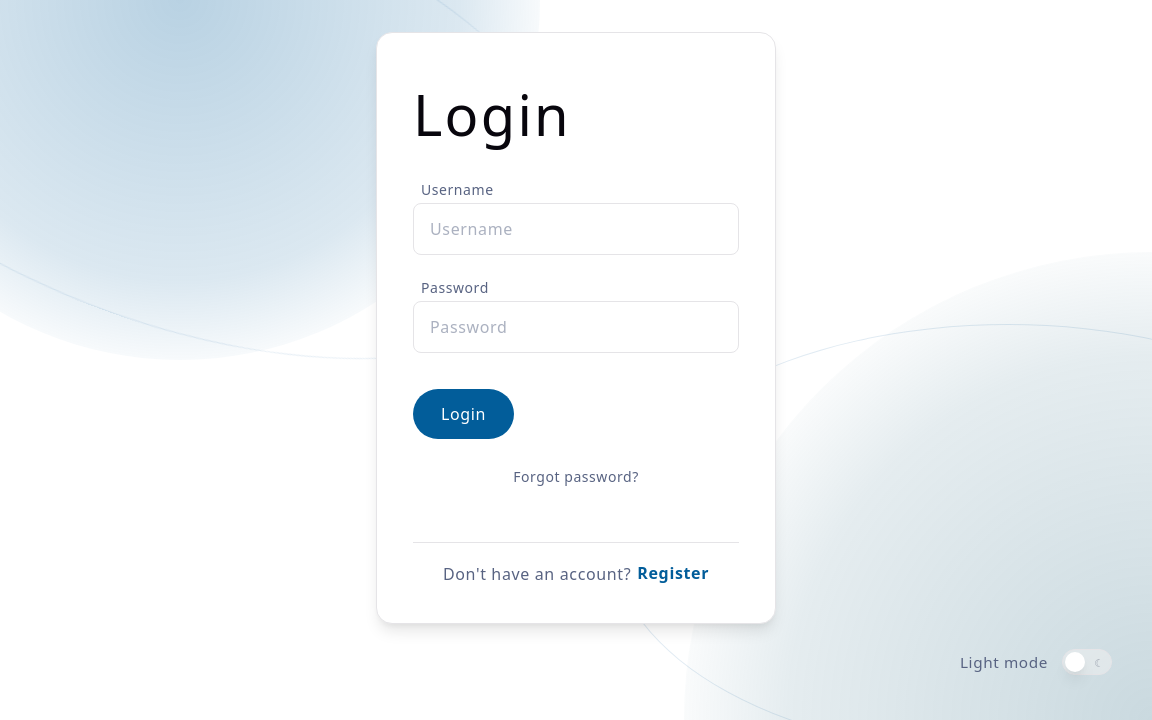
Scenario: Login › shows the API error when login fails
This screenshot has width=1152, height=720.
Step 1. Type "wronguser" into the field with placeholder "Username" → point(576, 229), box x1=413 y1=203 x2=739 y2=255
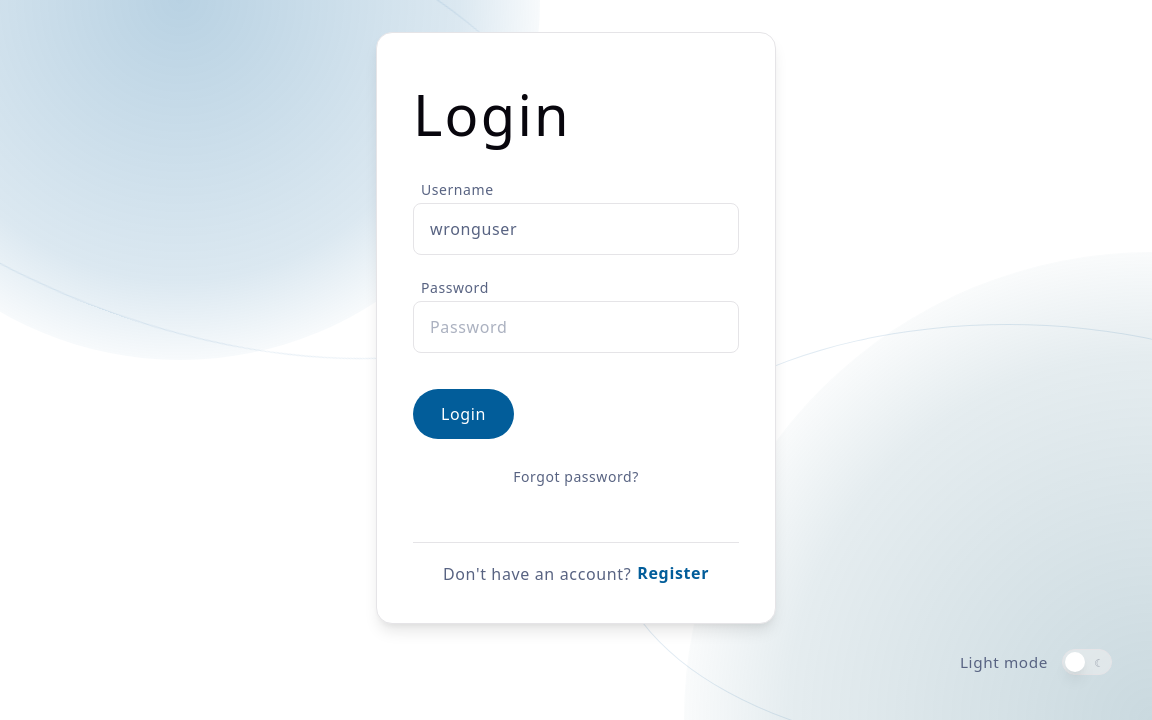
Step 2. Type "wrongpassword" into the password field with placeholder "Password" → point(576, 327), box x1=413 y1=301 x2=739 y2=353
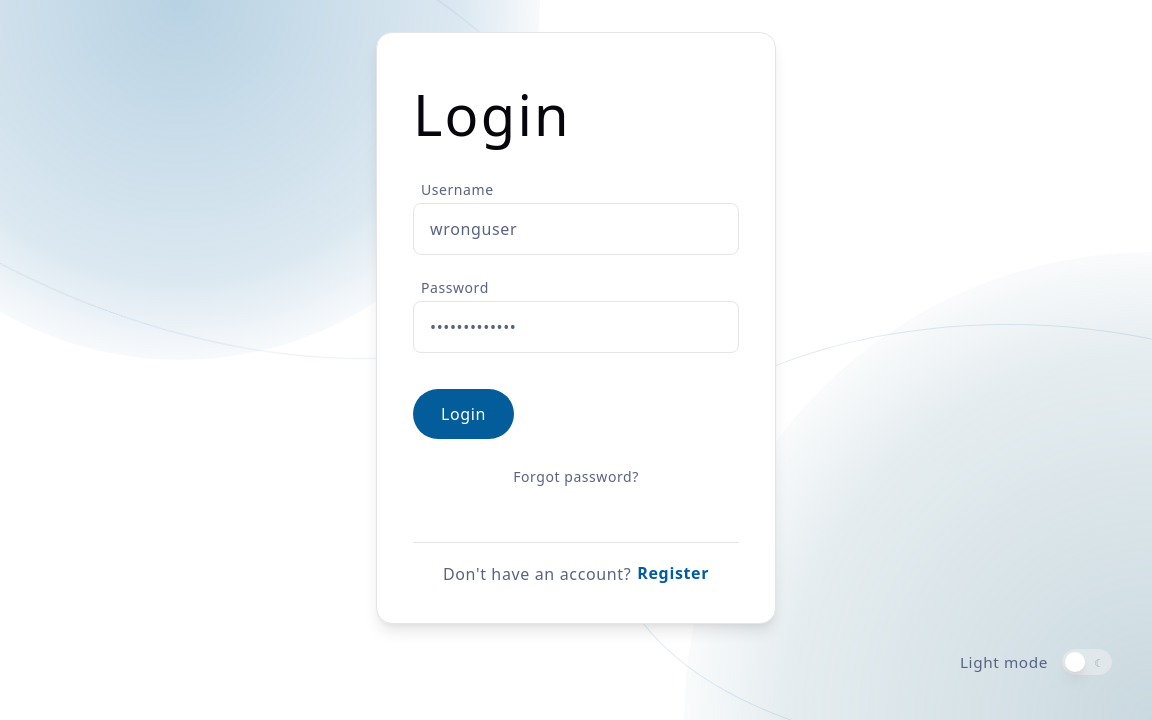
Step 3. Click the button "Login" → point(464, 414), box x1=413 y1=389 x2=514 y2=439
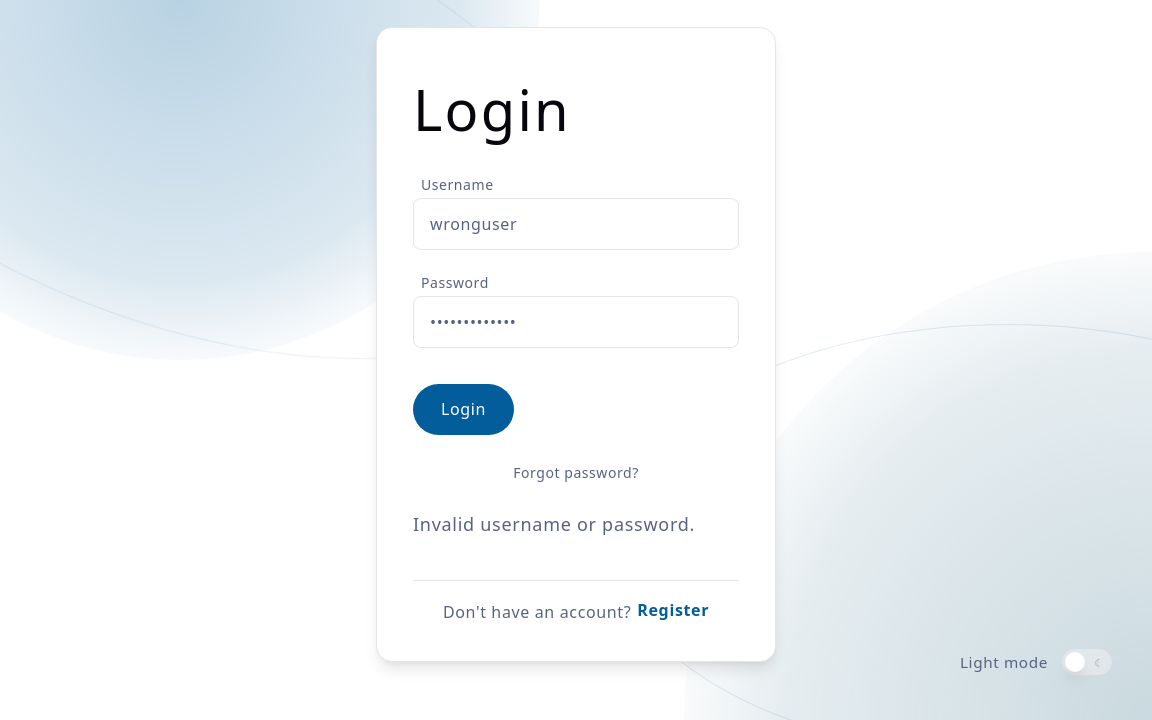
Check: the text "Invalid username or password." is shown, box x1=413 y1=511 x2=739 y2=537
